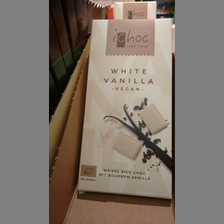chocolate: (78, 17, 174, 200)
